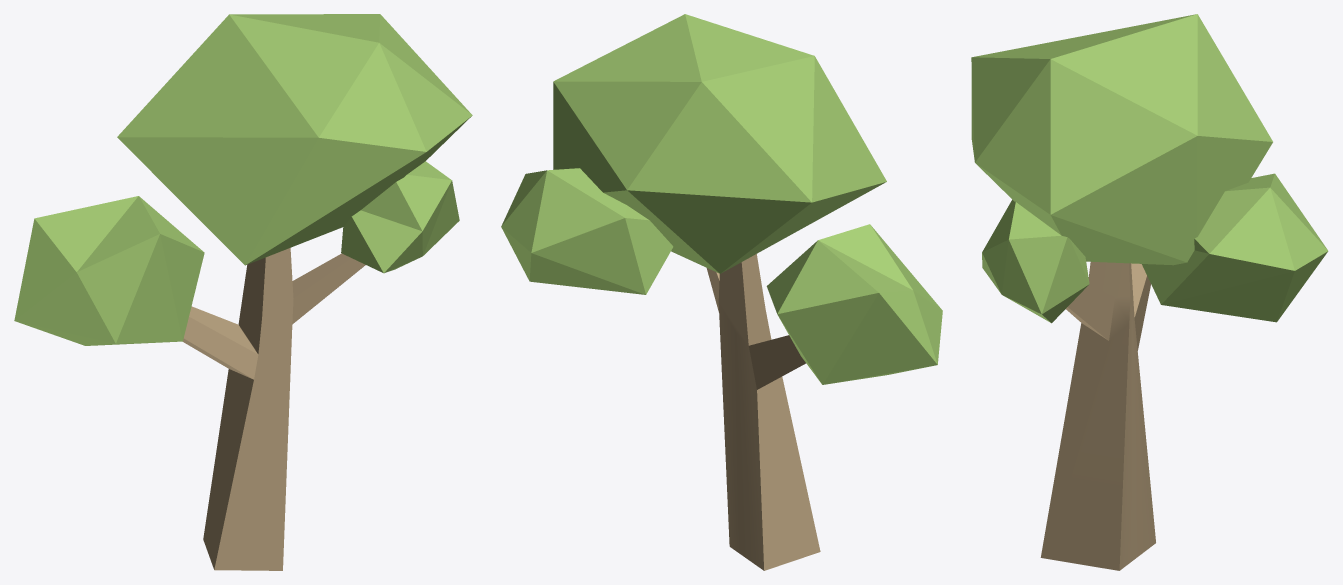
The model's file is tree1.fbx.
3 renders of one model, left to right at view 1: azimuth 30°, elevation 25°; view 2: azimuth 150°, elevation 25°; view 3: azimuth 270°, elevation 25°, orthographic. The views are drawn at different scales.
Visible parts, largest first — view 1: pPlatonic1, pCube1, pasted__pPlatonic2, pPlatonic2; view 2: pPlatonic1, pasted__pPlatonic2 (×2), pCube1; view 3: pPlatonic1, pCube1, pasted__pPlatonic2, pPlatonic2.
Boxes of the visible parts, x1=… form: pPlatonic1: x1=117, y1=14, x2=472, y2=265; pCube1: x1=183, y1=248, x2=365, y2=570; pasted__pPlatonic2: x1=14, y1=196, x2=204, y2=345; pPlatonic2: x1=341, y1=161, x2=459, y2=273; pPlatonic1: x1=553, y1=14, x2=886, y2=273; pasted__pPlatonic2 (×2): x1=501, y1=168, x2=942, y2=384; pCube1: x1=706, y1=254, x2=820, y2=570; pPlatonic1: x1=971, y1=14, x2=1272, y2=265; pCube1: x1=1040, y1=262, x2=1155, y2=570; pasted__pPlatonic2: x1=1142, y1=173, x2=1328, y2=322; pPlatonic2: x1=982, y1=199, x2=1089, y2=323.
Bounding box in the file's own units: 6.47 × 7.64 × 4.47.
